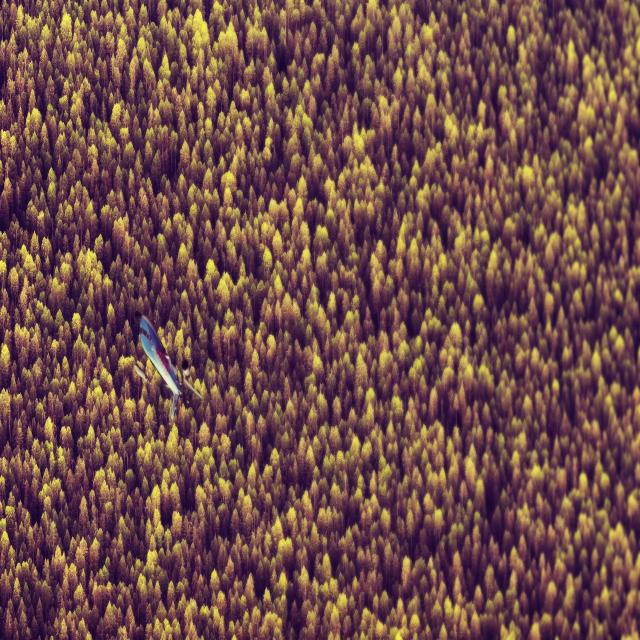airplane: (136, 314, 202, 420)
